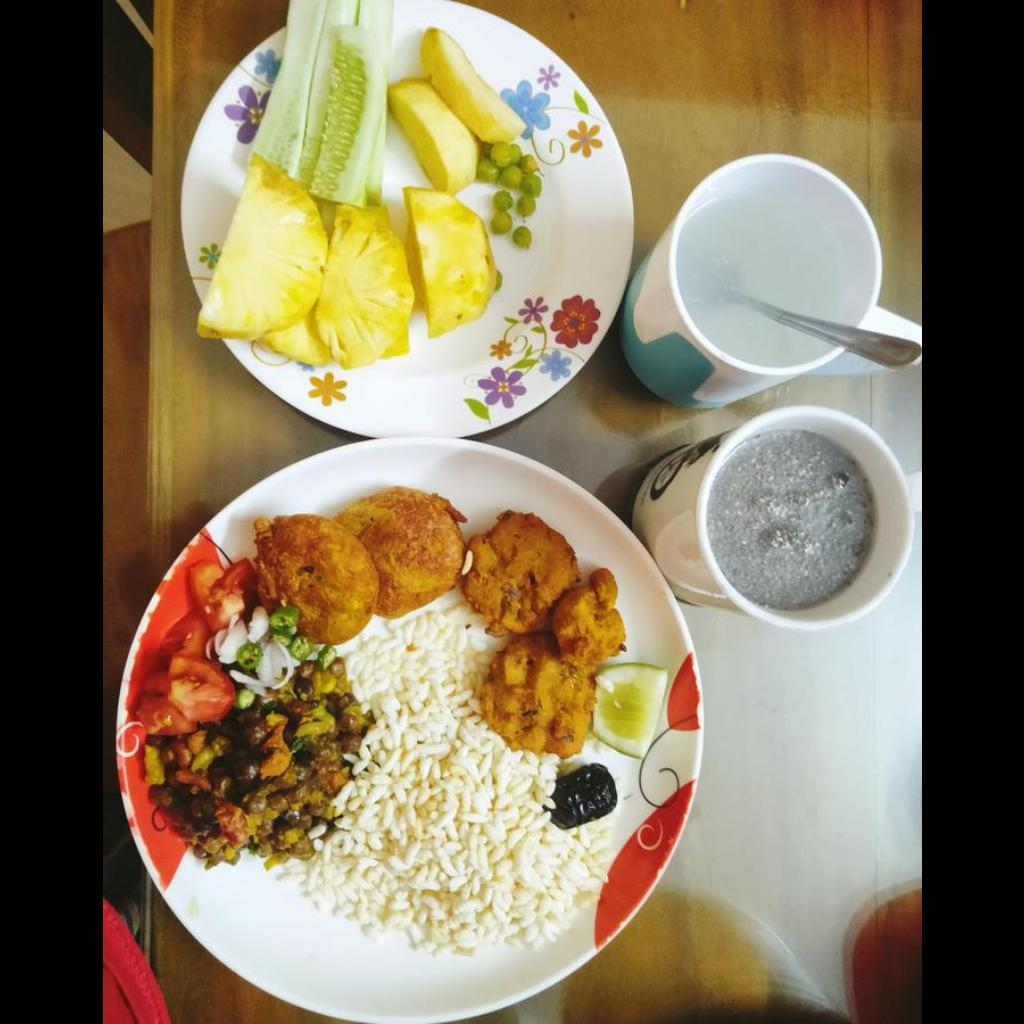apple: (392, 31, 524, 184)
chola: (142, 661, 360, 848)
chop-alu: (257, 486, 581, 643)
cucumber: (247, 5, 392, 192)
dates: (546, 763, 616, 829)
juice: (711, 438, 878, 604)
lemon: (592, 661, 666, 760)
peyaju: (194, 161, 496, 364), (483, 597, 632, 751)
puffed-rice: (233, 600, 613, 956)
tomato: (128, 552, 254, 735)
